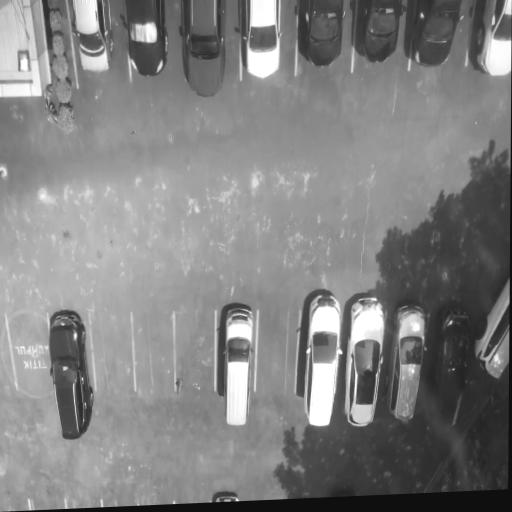Car: (338, 294, 388, 430), (46, 309, 96, 442), (300, 292, 348, 429), (423, 313, 476, 426), (382, 301, 430, 424), (181, 0, 229, 96), (469, 272, 509, 386), (222, 306, 258, 430), (403, 0, 463, 70), (241, 0, 283, 83), (123, 0, 169, 75), (70, 0, 114, 75), (298, 0, 345, 70), (470, 0, 512, 74), (356, 0, 403, 62)
Space Available: (255, 310, 303, 391), (6, 312, 54, 392), (131, 312, 179, 391), (90, 307, 134, 390), (174, 306, 214, 390), (65, 497, 101, 509), (29, 498, 63, 510)
